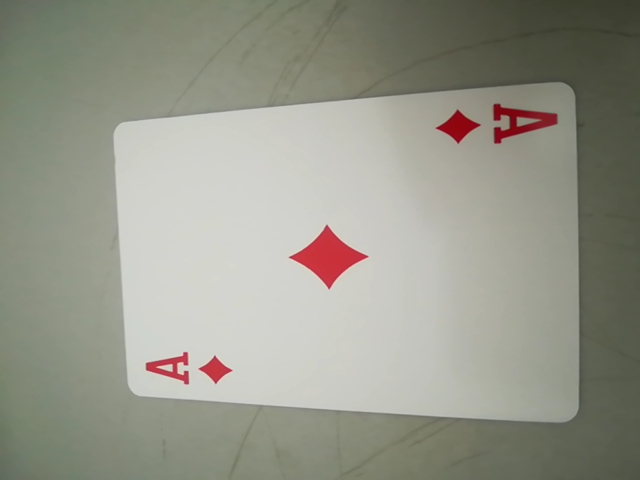fk a: (432, 95, 559, 152), (138, 341, 237, 395)
